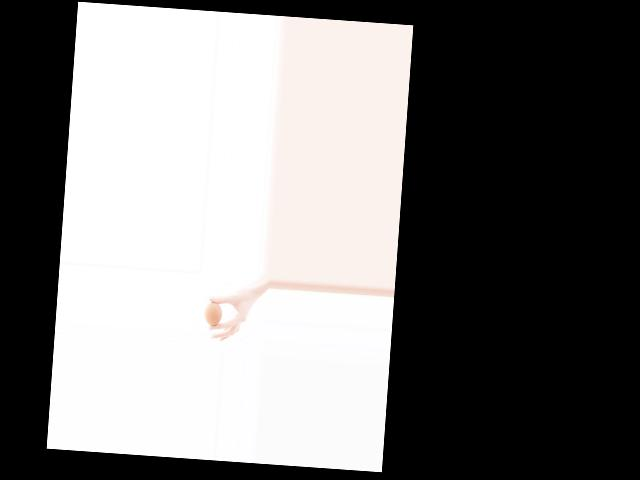egg: (203, 301, 222, 326)
